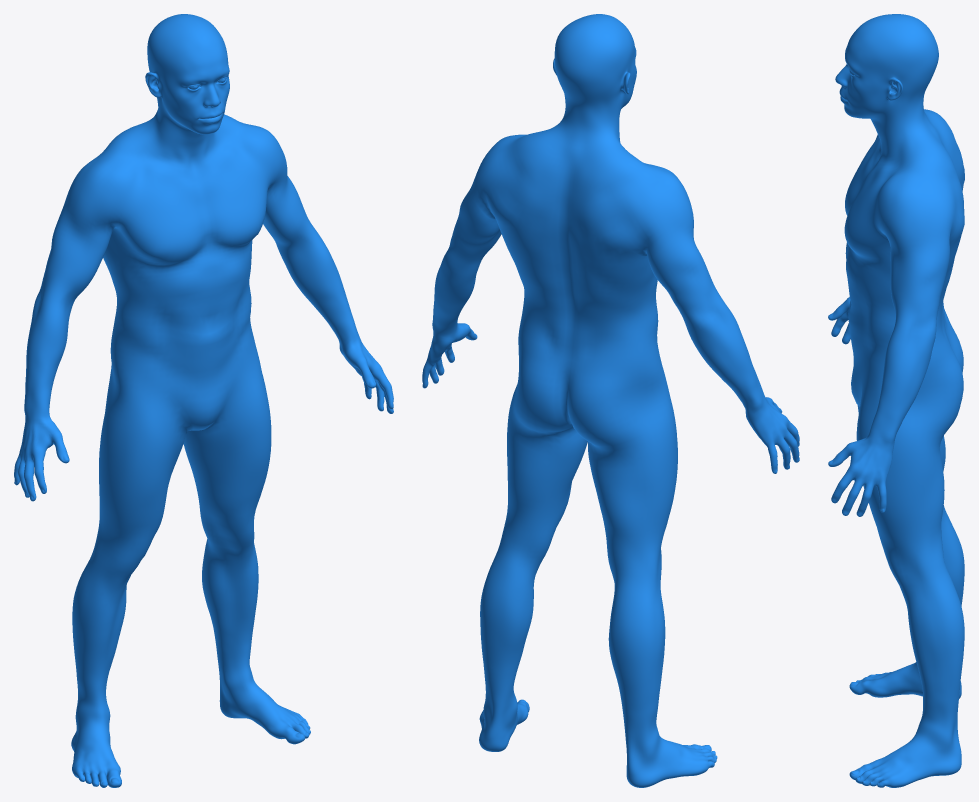
The model's file is hud_male_blue.glb.
3 renders of one model, left to right at view 1: azimuth 30°, elevation 25°; view 2: azimuth 150°, elevation 25°; view 3: azimuth 270°, elevation 25°, orthographic.
Parts seen in each view (by area): view 1: HUD_Male_Body; view 2: HUD_Male_Body; view 3: HUD_Male_Body.
Boxes of the visible parts, x1,y1,x2,y2 form: HUD_Male_Body: [14, 14, 393, 787]; HUD_Male_Body: [422, 14, 799, 787]; HUD_Male_Body: [828, 14, 964, 787].
Size of the model in its own units: 0.9401 by 1.8 by 0.31.
